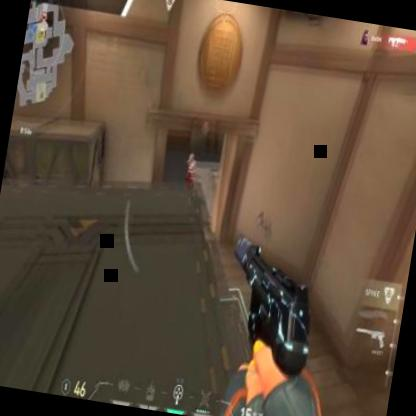enemy: (182, 152, 197, 194)
enemy_head: (186, 152, 194, 162)
